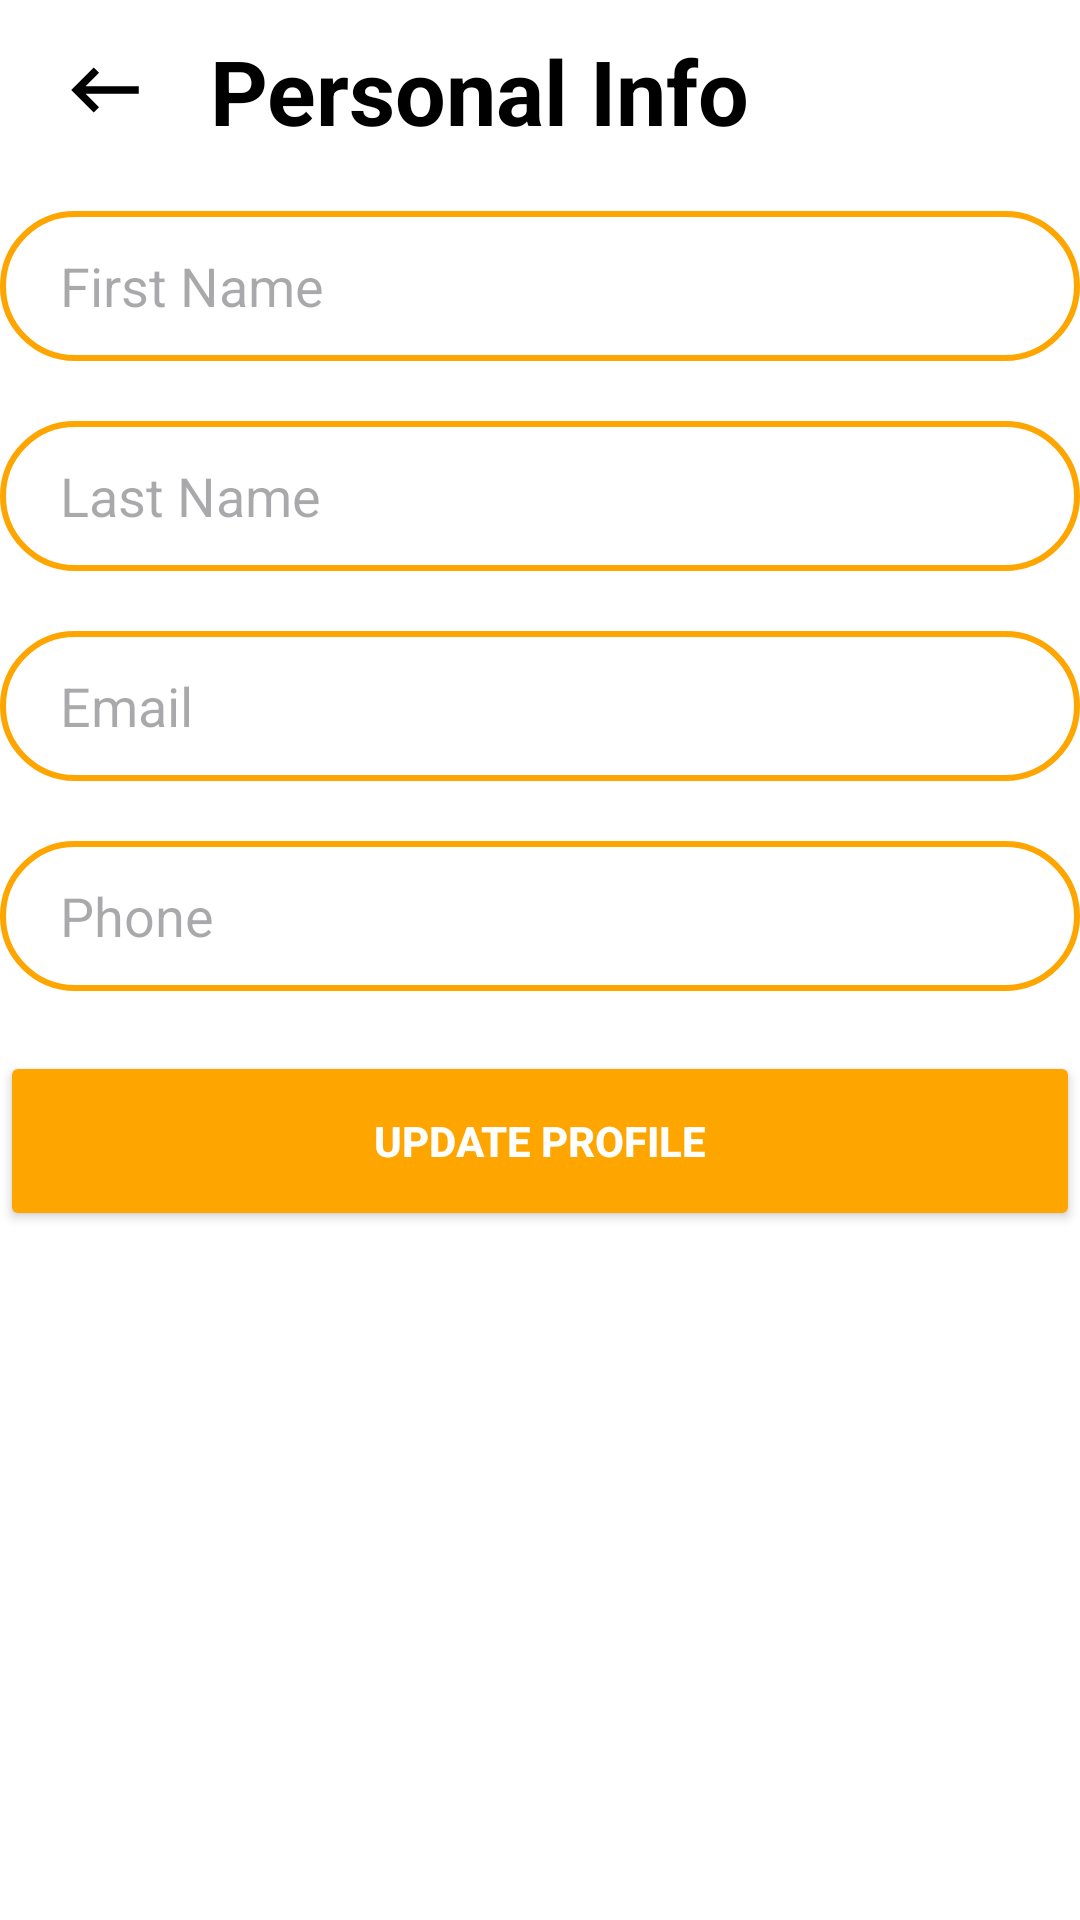

Named icons in this screenshot (1080 × 1920) and their bounding boxes, (x1, y1, x2, y2):
keyboard backspace: (71, 67, 139, 113)
